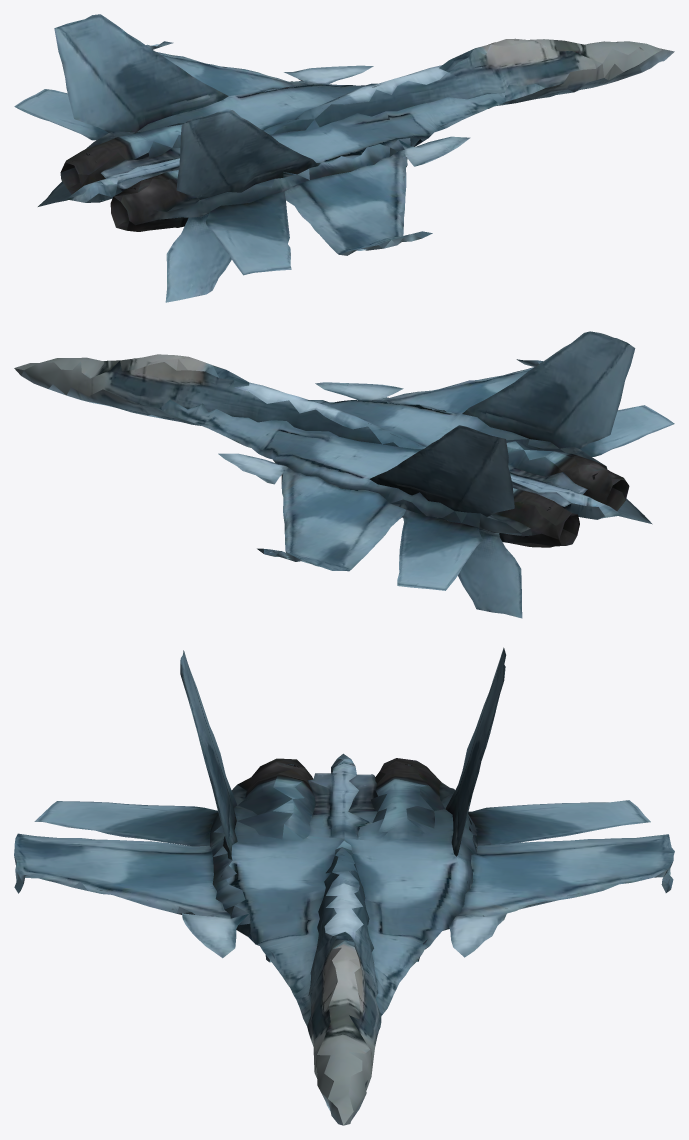
The model's file is fh_plane_osa_trellis.glb.
3 renders of one model, top to bottom at view 1: azimuth 30°, elevation 25°; view 2: azimuth 150°, elevation 25°; view 3: azimuth 270°, elevation 25°, orthographic. The views are drawn at different scales.
Visible parts, largest first — view 1: osa_fit2; view 2: osa_fit2; view 3: osa_fit2.
Boxes of the visible parts, x1,y1,x2,y2 form: osa_fit2: (14,14,674,302); osa_fit2: (14,331,674,618); osa_fit2: (14,647,674,1125).
Size of the model in its own units: 1 by 0.2818 by 0.753.
Materials: 1 (1 with a texture image).
